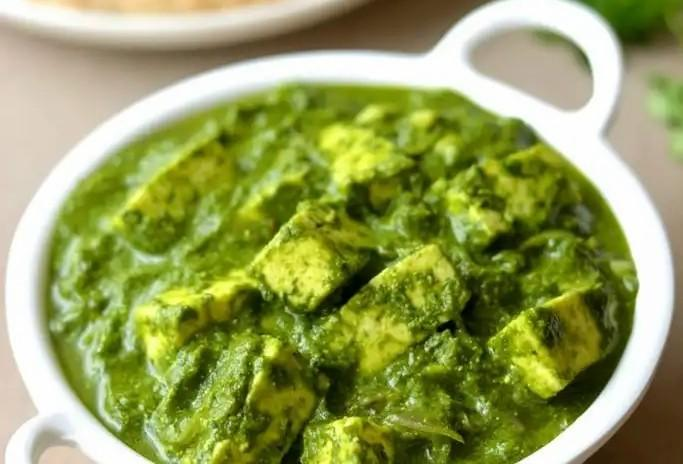PalakPaneer: (48, 88, 637, 464)
